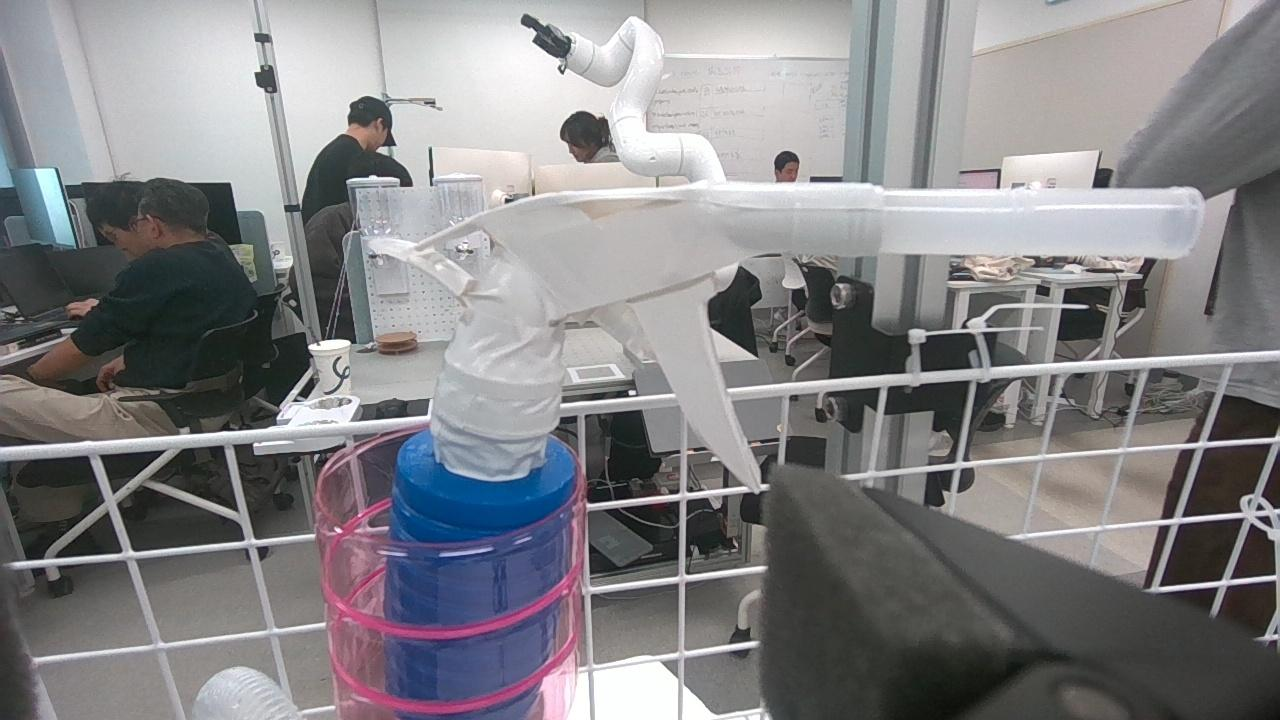Nozzle: (349, 171, 888, 720)
